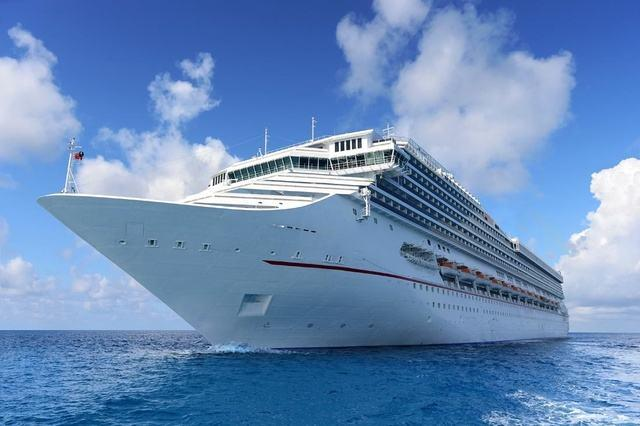youlun: (34, 116, 573, 354)
